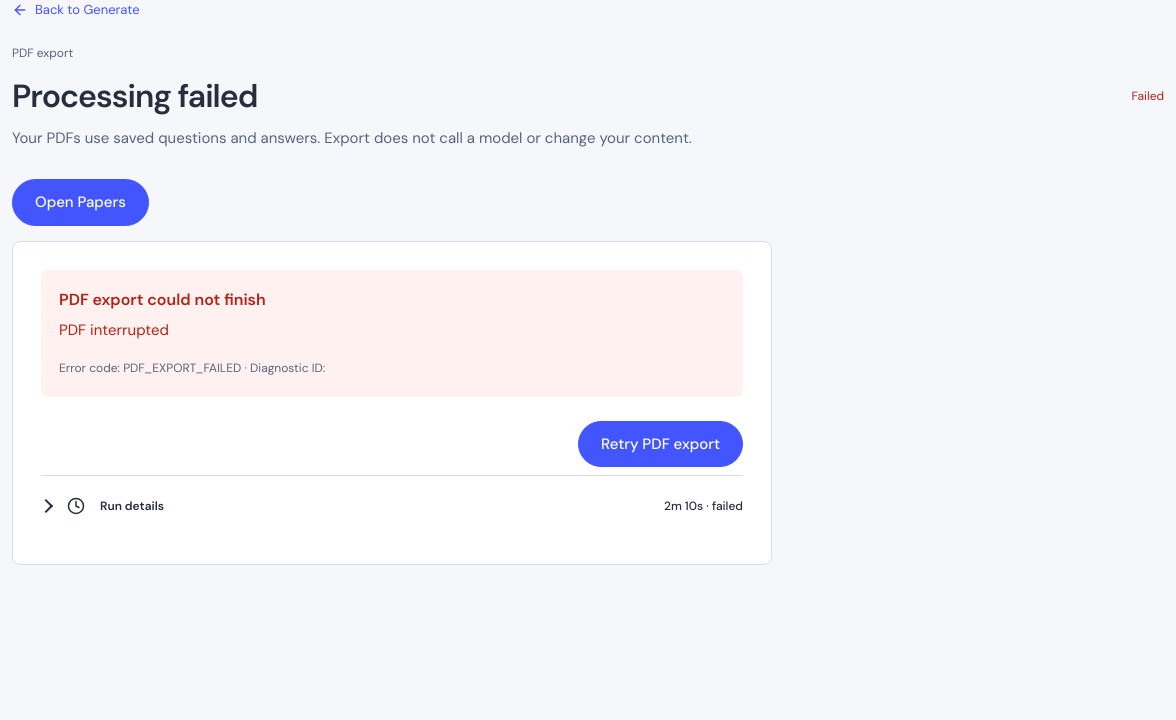
Test: folds runtime details while leaving failures and recovery visible
Expected: the text "PDF interrupted" is shown, [59,320,169,340]
Expected: the button "Retry PDF export" is shown, [578,421,743,467]
Step 1. Click the text "Run details" → (132, 506), box [100,497,164,515]
(page scrolled)
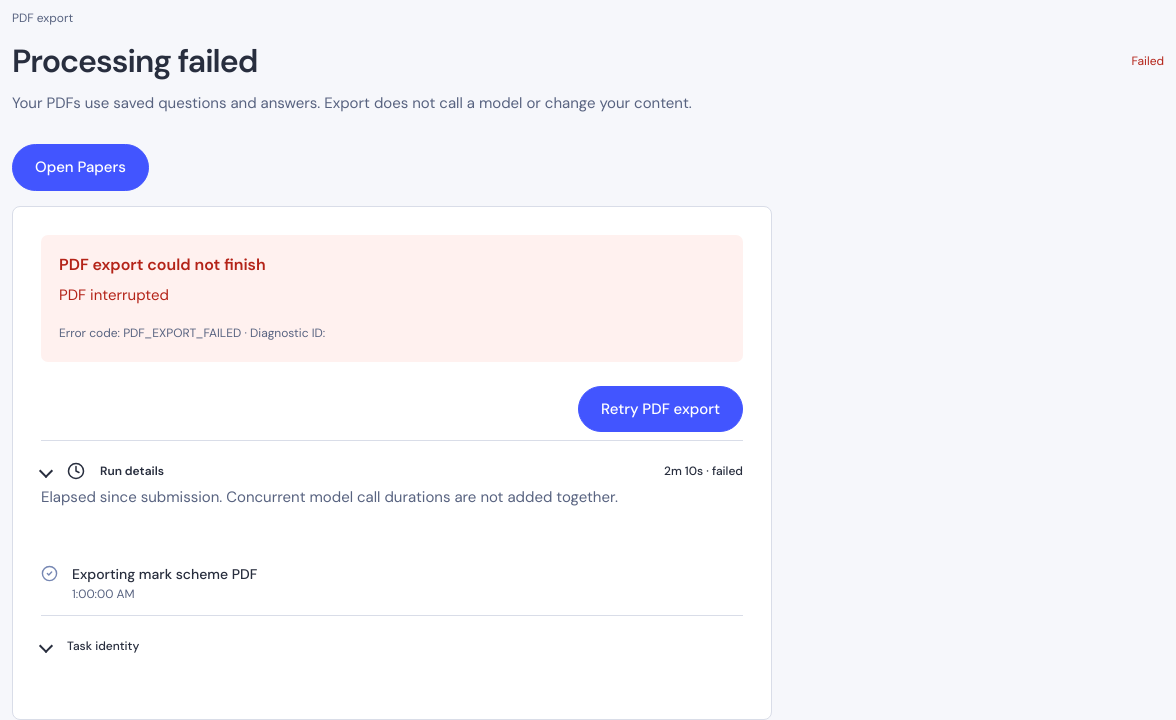
Expected: the element with class "run-details" has attribute open, [41,440,743,691]
